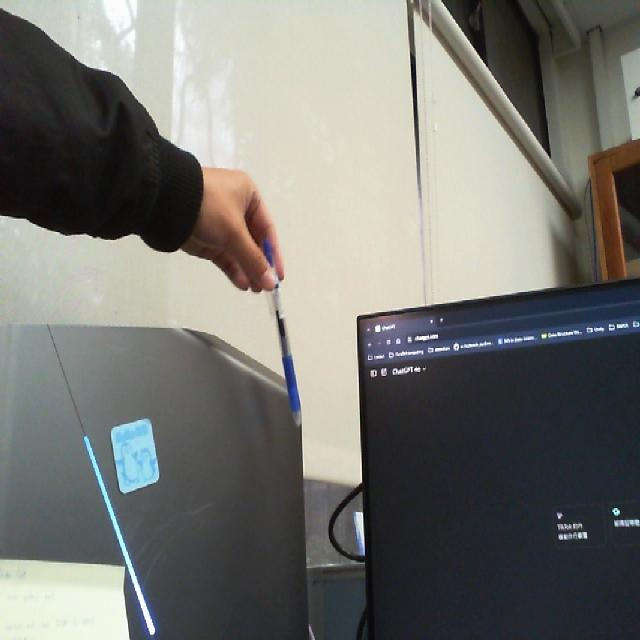Pen: (248, 223, 313, 438)
